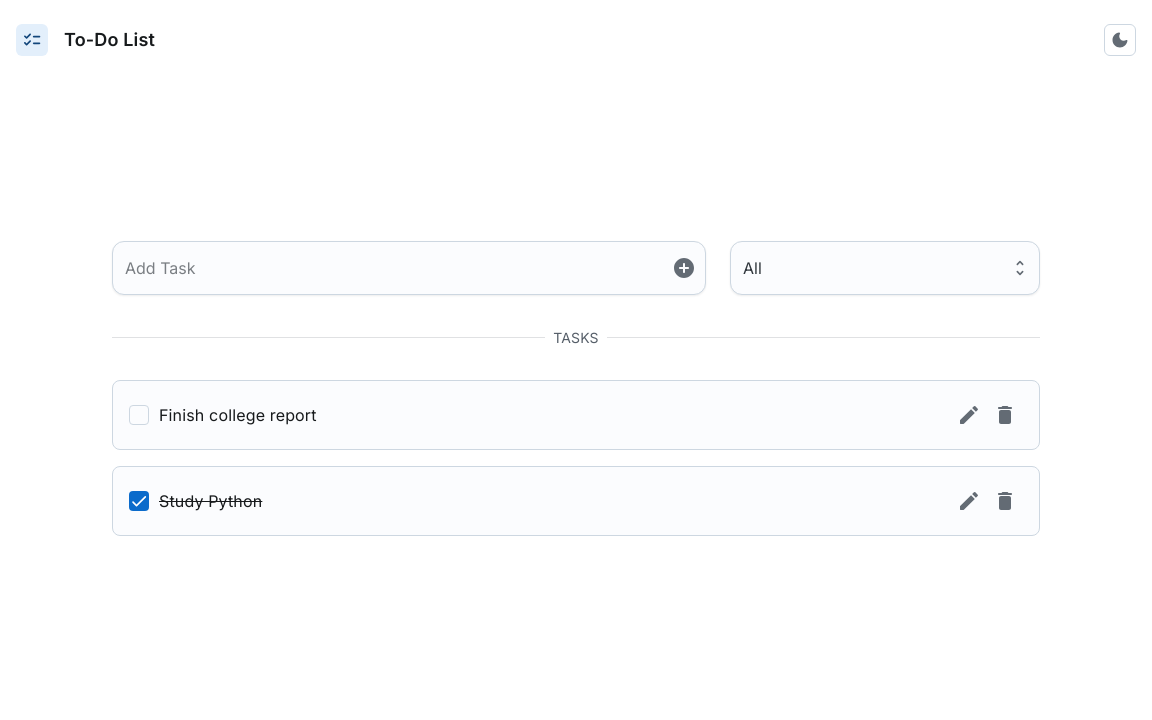
Scenario: TodoPage › updates a task
Click the button named "Edit task" in the row of "Finish college report" at (969, 414), box x1=951 y1=396 x2=987 y2=432
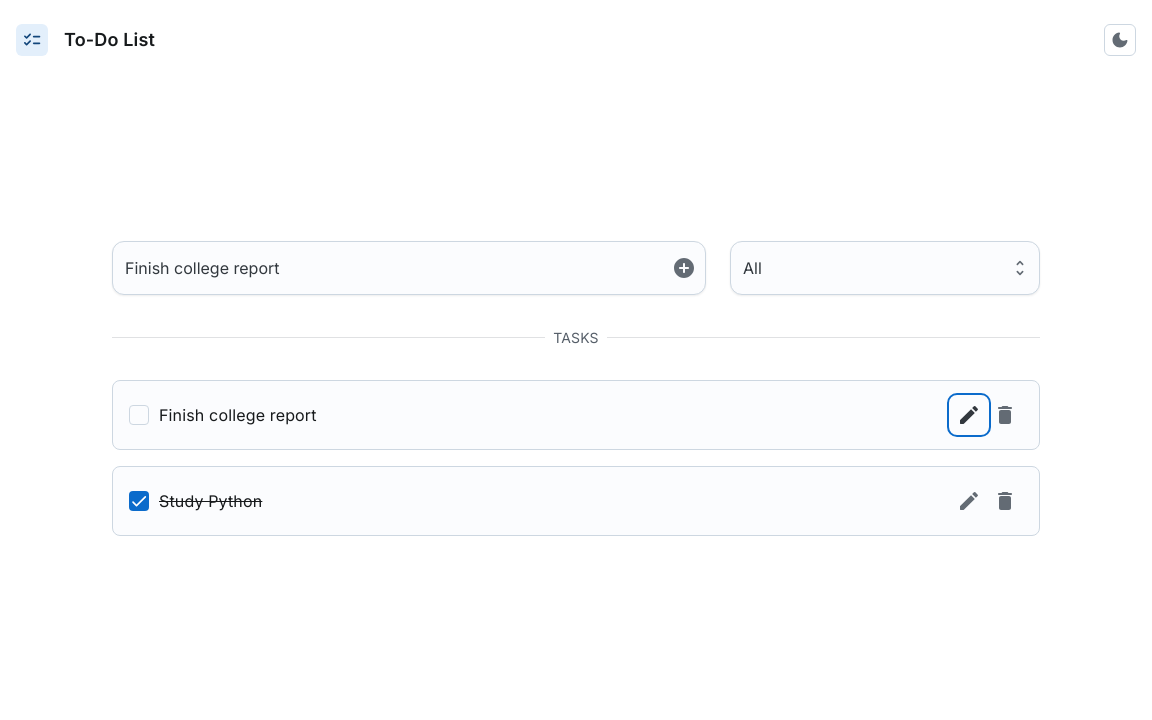
Replace the text in the field with placeholder "Edit Task" with "Study Java" at (392, 268), box x1=125 y1=250 x2=658 y2=286
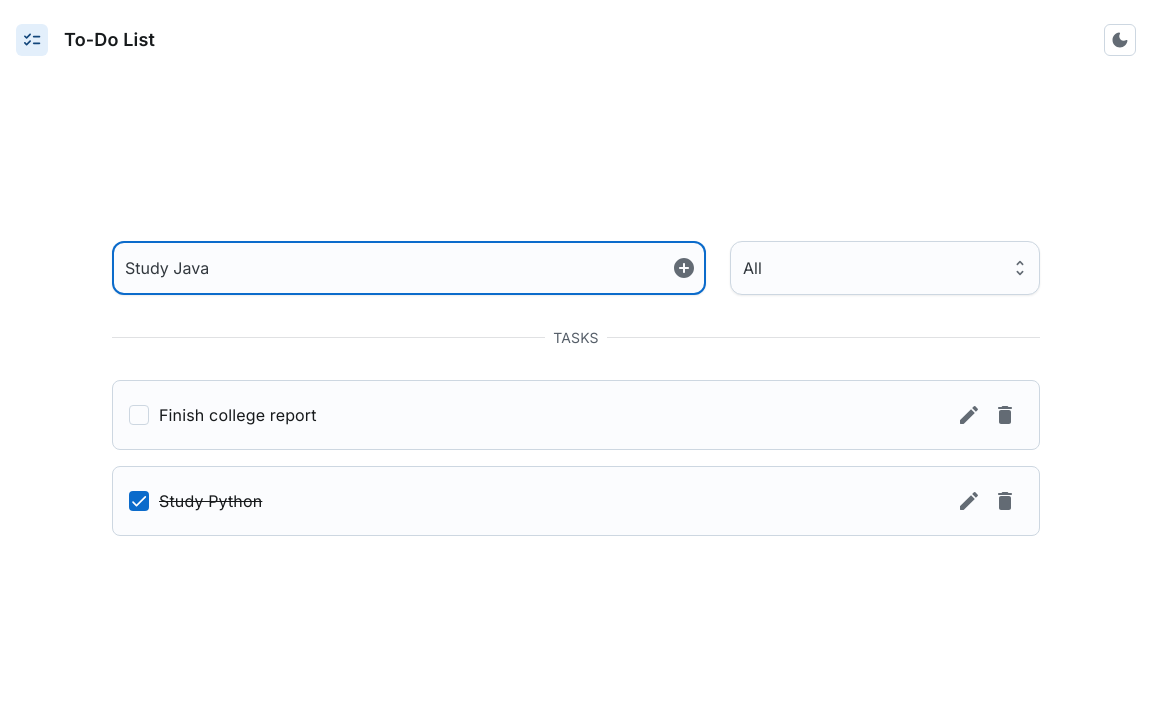
Click the button with test id "AddCircleRoundedIcon" at (684, 268), box x1=666 y1=250 x2=702 y2=286
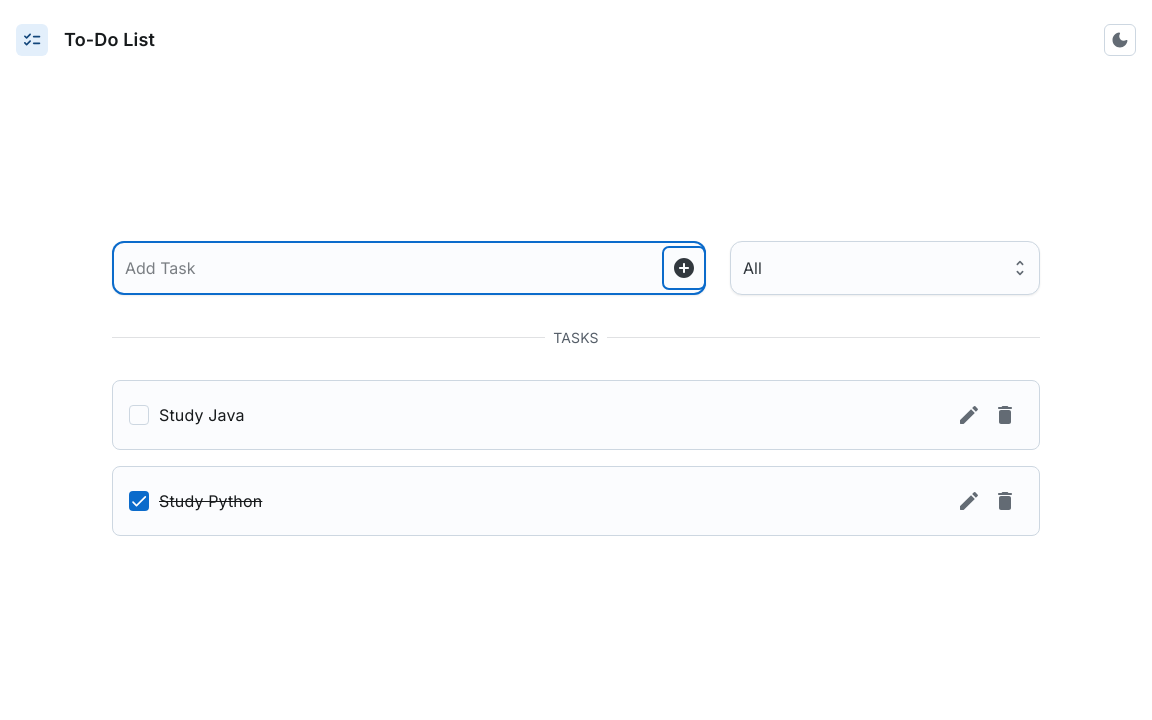
Result: the checkbox "Study Java" is shown at x1=159 y1=404 x2=245 y2=424
